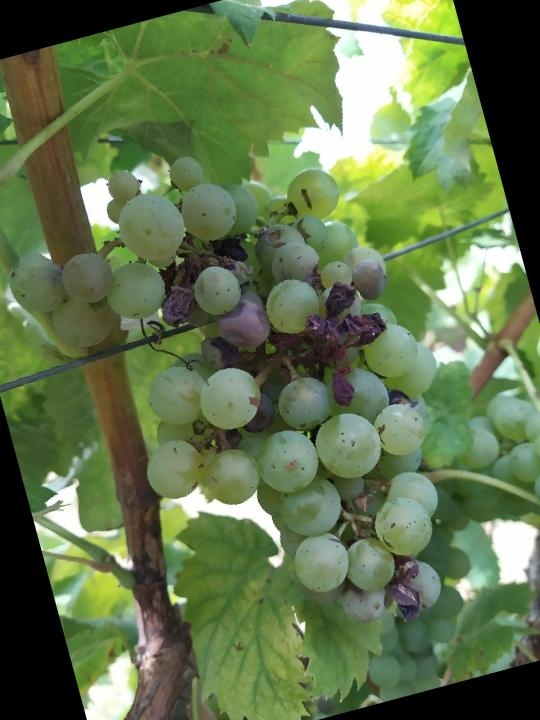grape: (0, 100, 504, 703)
